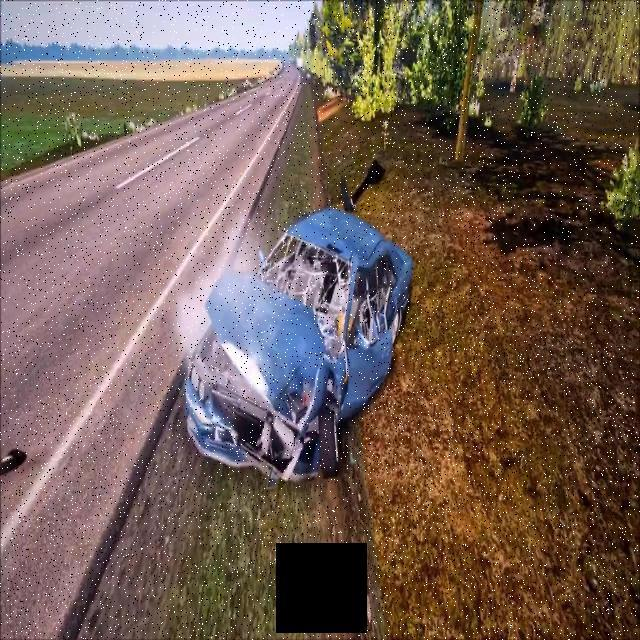single accident: (176, 187, 460, 487)
